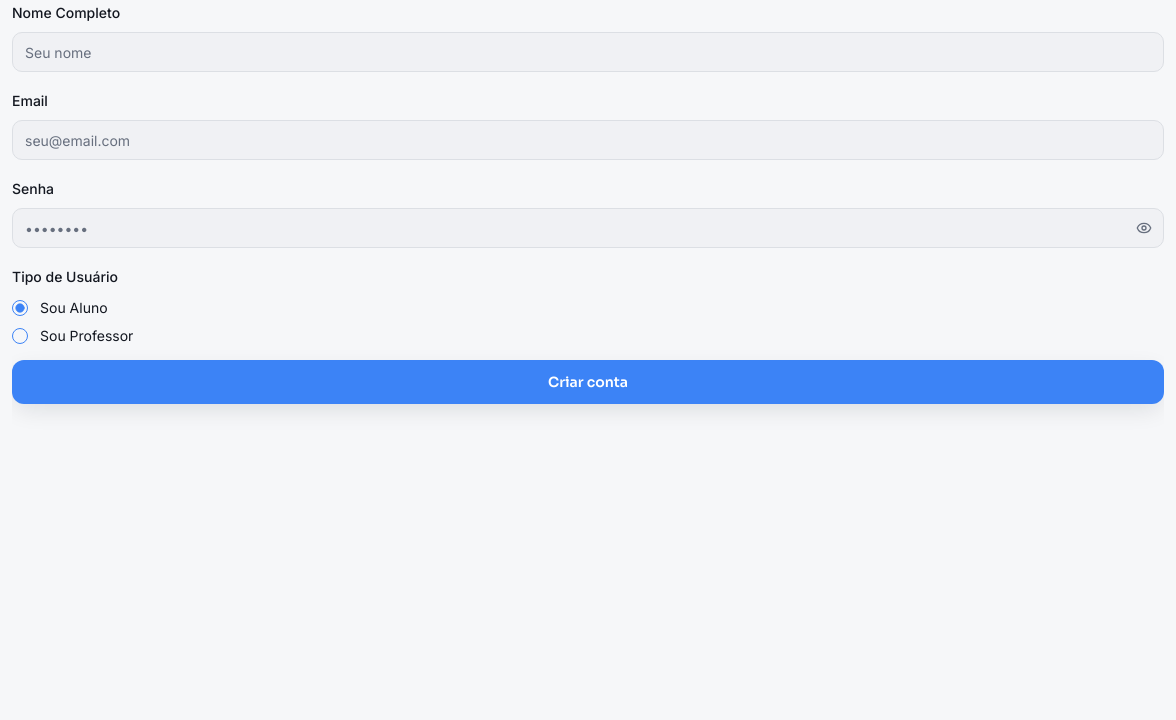
Test case: SignUpForm › shows validation errors for empty fields on submit
Click the button "Criar conta" at coordinates (588, 382), box x1=12 y1=360 x2=1164 y2=404
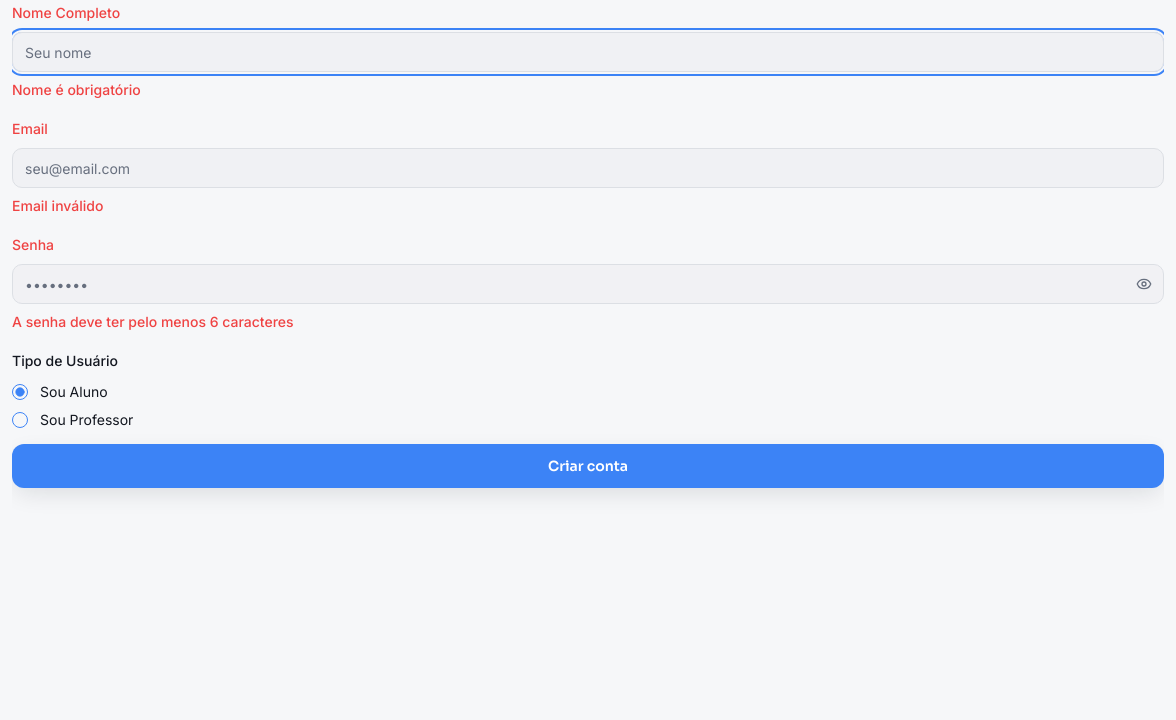
Check: the text "Nome é obrigatório" is shown, box x1=12 y1=81 x2=141 y2=98
Check: the text "Email inválido" is shown, box x1=12 y1=197 x2=103 y2=214
Check: the text "A senha deve ter pelo menos 6 caracteres" is shown, box x1=12 y1=313 x2=294 y2=330
